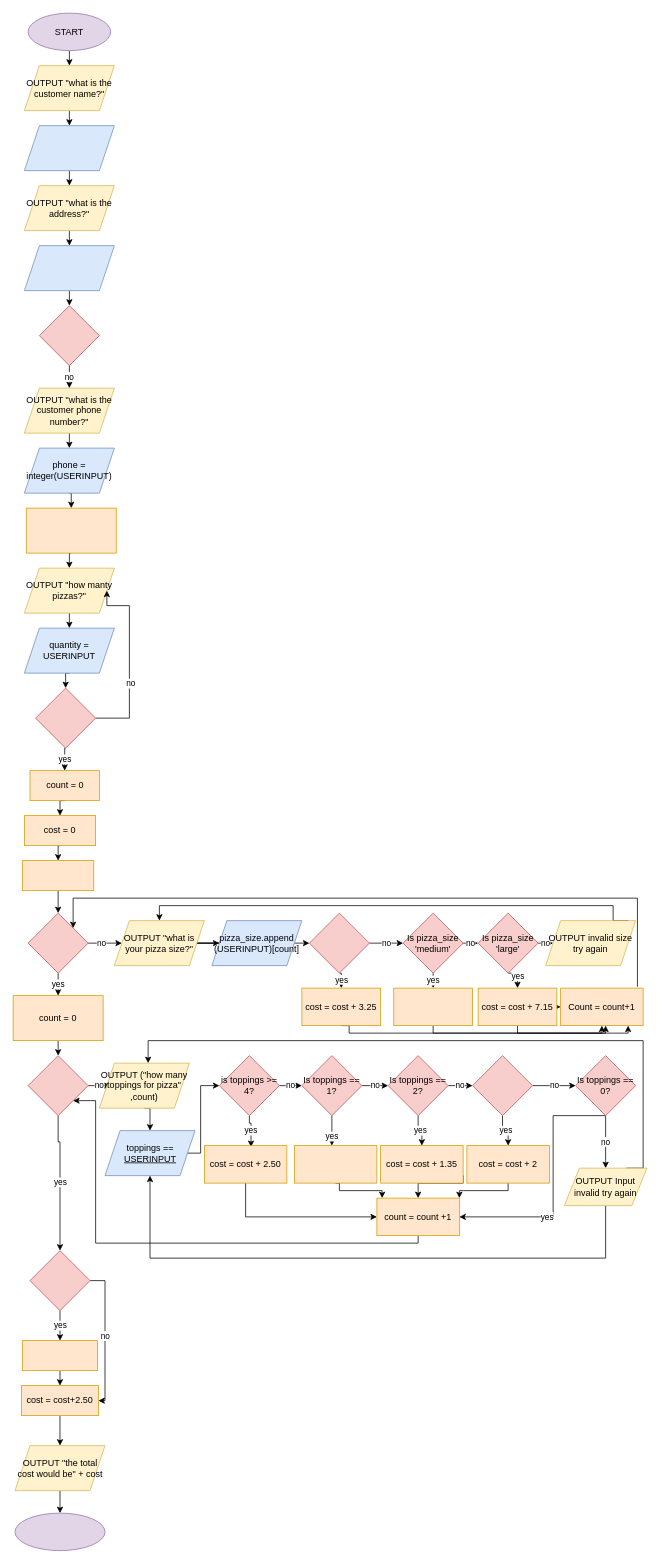
This 662x1564 diagram has some shape labels left out. The shapes that lost their labels are listed below. From the top down, each one's centre as x and y in pixels, then its label:
At [69,148]: "name = USERINPUT".
At [69,268]: "address = USERINPUT".
At [69,335]: "does address contain special characters?".
At [71,530]: "File.append(name,address, phone)".
At [65,717]: "Is quantity <= 6 AND quantity >= 1".
At [58,875]: "pizza_size = []".
At [57,942]: "Is count == quantity?".
At [339,942]: "Is pizza_size 'small'".
At [432,1006]: "cost = cost + 5.50".
At [57,1085]: "Is count == quantity??".
At [502,1085]: "Is toppings == 3?".
At [335,1164]: "cost = cost + 0.75".
At [59,1280]: "Is cost >= 20".
At [60,1355]: "cost = cost*0.9".
At [59,1531]: "END".
